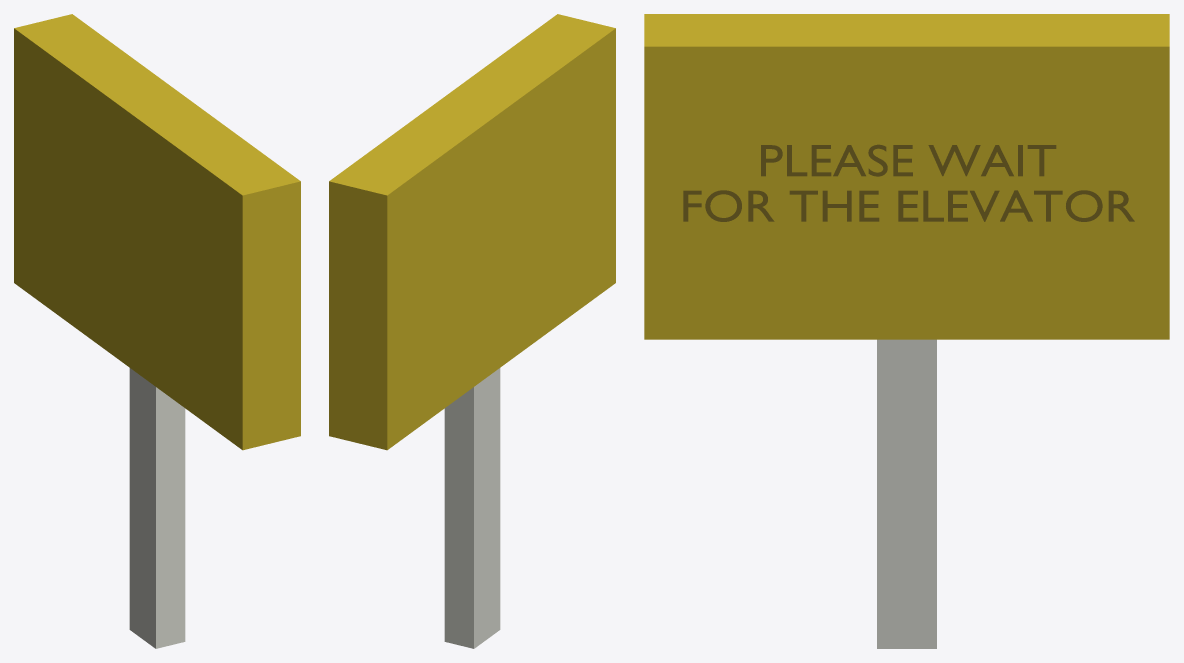
The model's file is elevator_sign.fbx.
The picture shows the model from 3 angles, left to right: view 1: azimuth 30°, elevation 25°; view 2: azimuth 150°, elevation 25°; view 3: azimuth 270°, elevation 25°; orthographic projection. The views are drawn at different scales.
Visible parts, largest first — view 1: Cube; view 2: Cube; view 3: Cube, Text.
Boxes of the visible parts, x1,y1,x2,y2 form: Cube: (14, 14, 300, 648); Cube: (329, 14, 615, 648); Cube: (644, 14, 1169, 648); Text: (683, 144, 1134, 221).
Size of the model in its own units: 49.61 by 417 by 325.
